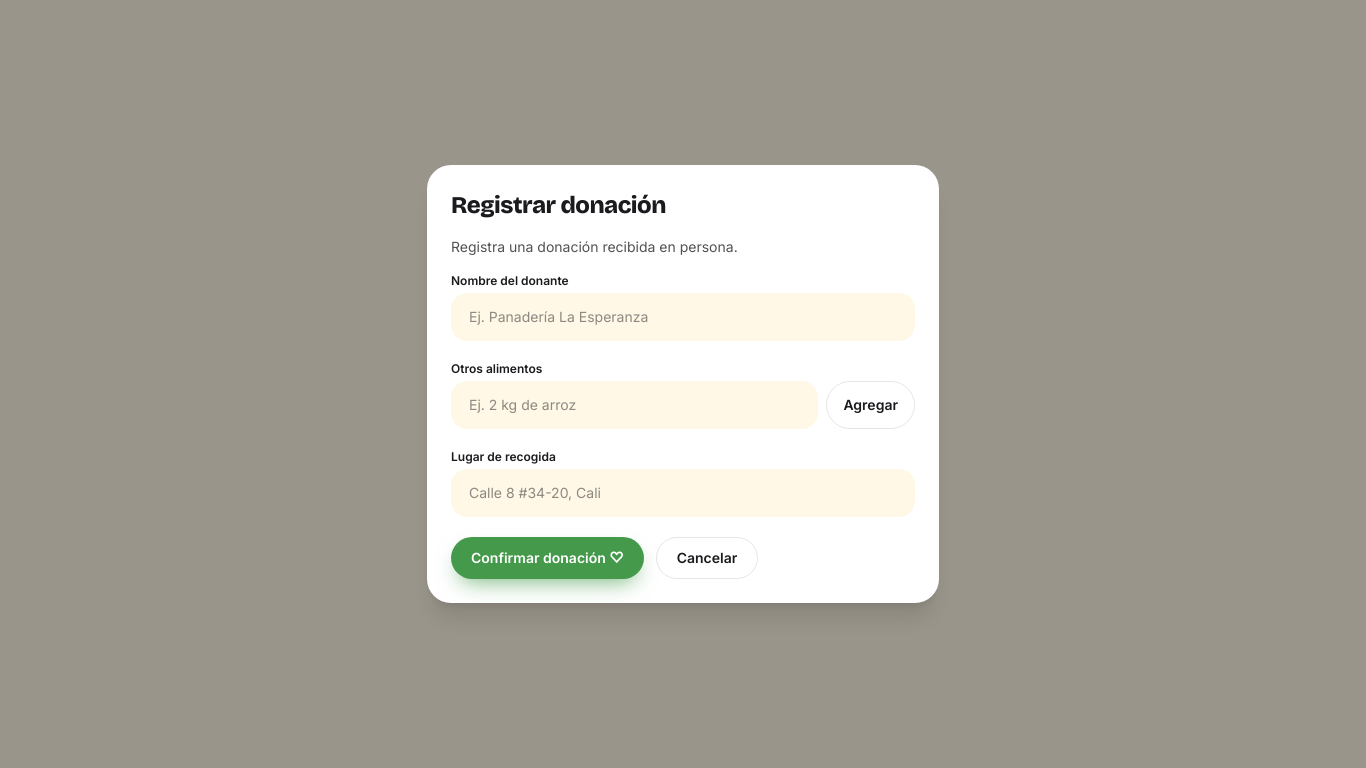
Test case: shows the error toast and stays open when the request fails
Type "Ana" into the field labelled "Nombre del donante" at (683,317), box x1=451 y1=293 x2=915 y2=341
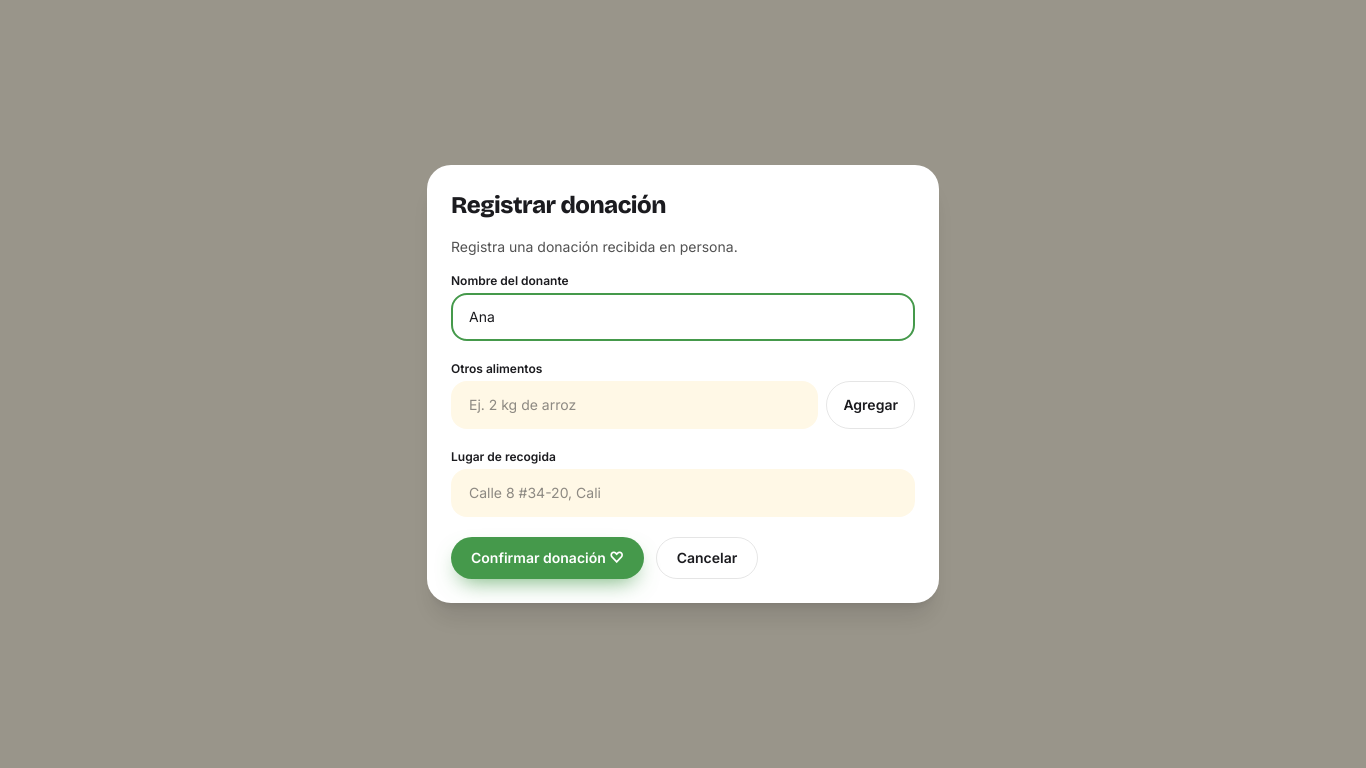
Type "Arroz" into the field labelled "Otros alimentos" at (635,405), box x1=451 y1=381 x2=818 y2=429
Then press Enter
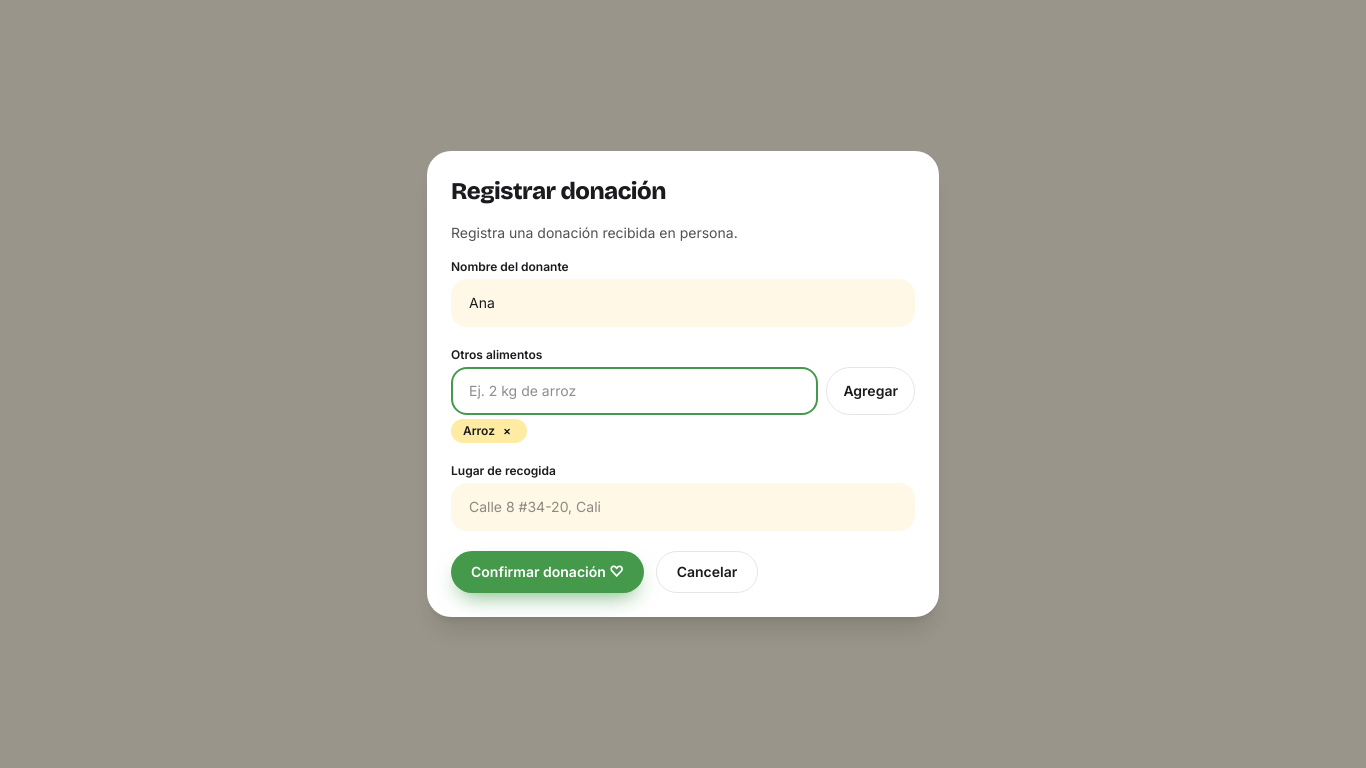
Type "Cali" into the field labelled "Lugar de recogida" at (683,507), box x1=451 y1=483 x2=915 y2=531
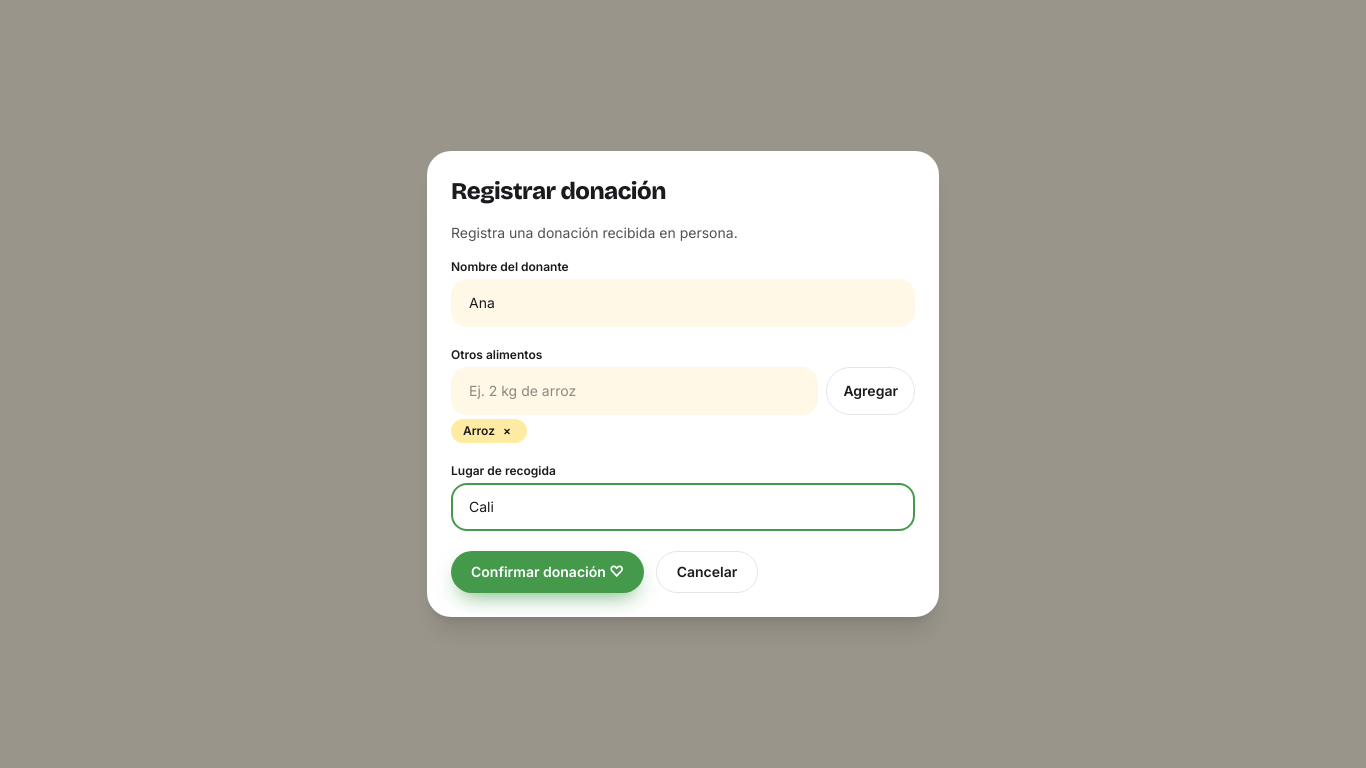
Click the button "Confirmar donación ♡" at (547,572), box x1=451 y1=551 x2=644 y2=593
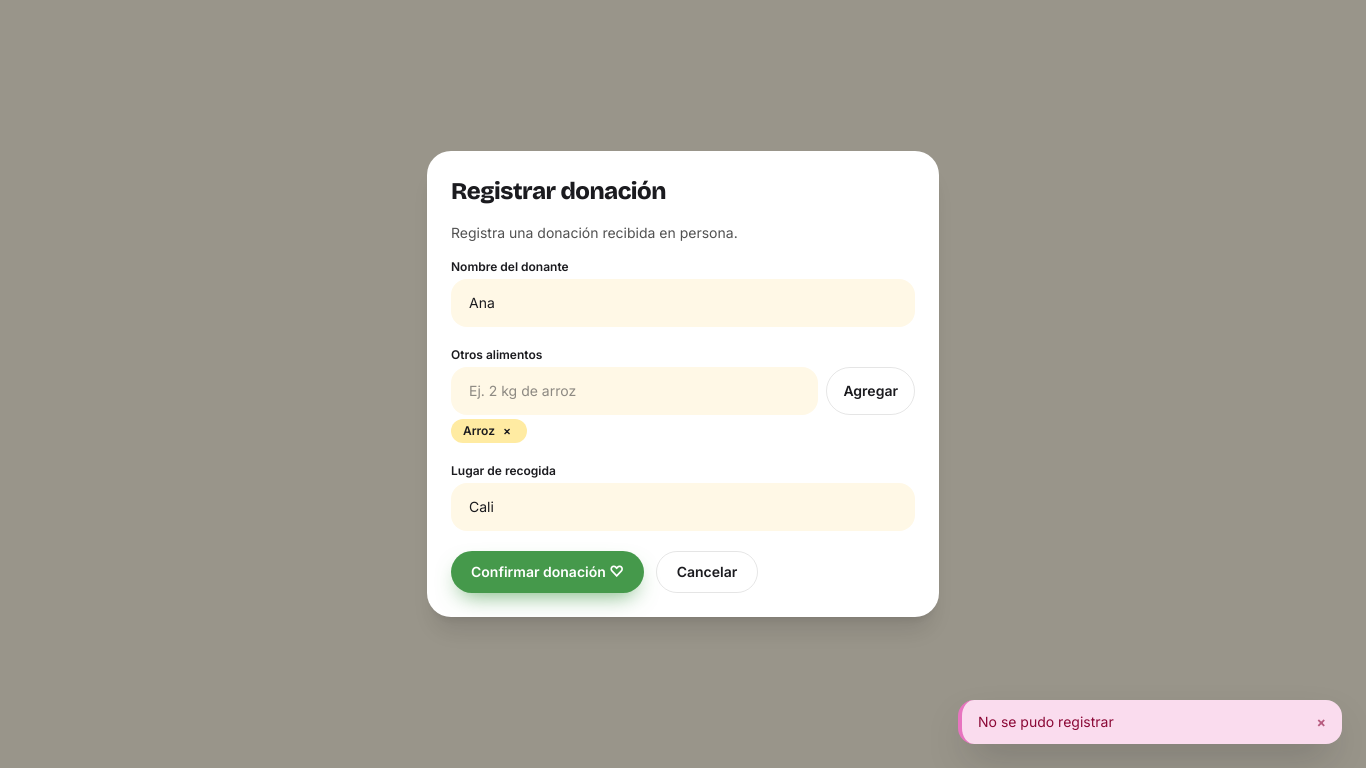
Now the text "No se pudo registrar" is shown, box x1=978 y1=713 x2=1114 y2=730
